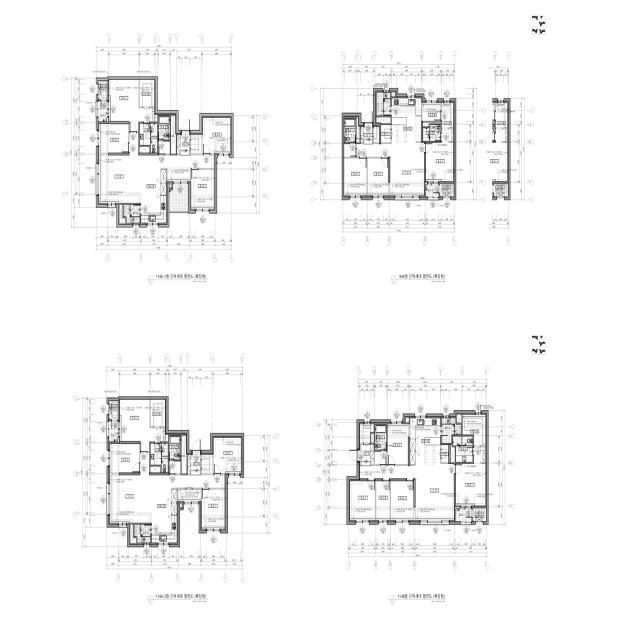space_balconi: (169, 186, 188, 211), (134, 525, 151, 543), (123, 205, 140, 223), (377, 93, 390, 116), (456, 509, 472, 522), (98, 101, 107, 122), (109, 421, 118, 441), (426, 184, 439, 197)
space_bedroom: (120, 400, 165, 452), (109, 80, 154, 132), (456, 447, 486, 506), (349, 481, 375, 520), (214, 437, 242, 473), (203, 117, 231, 153), (202, 490, 226, 529), (191, 170, 215, 209), (391, 481, 414, 520), (344, 158, 367, 196), (110, 444, 139, 473), (99, 124, 128, 153), (388, 424, 408, 464), (368, 158, 388, 196)
space_dressroom: (463, 415, 486, 446), (150, 400, 165, 427), (140, 80, 155, 107), (442, 103, 453, 128)
space_front: (358, 444, 374, 466), (361, 124, 379, 143), (188, 453, 201, 475), (177, 135, 190, 155)
space_kitchen: (410, 418, 440, 465), (152, 489, 177, 543), (141, 169, 166, 223), (392, 98, 421, 143)
space_living_room: (110, 453, 226, 523), (99, 133, 215, 203), (359, 464, 454, 520), (356, 143, 424, 196)
space_other: (426, 129, 453, 181), (376, 481, 390, 520), (422, 103, 441, 121), (167, 168, 190, 182), (359, 424, 374, 443), (178, 489, 201, 501), (202, 454, 213, 473), (191, 135, 202, 154), (182, 436, 187, 474), (171, 116, 176, 154), (381, 125, 391, 143), (344, 143, 356, 157), (169, 461, 181, 474), (375, 452, 387, 464), (158, 142, 170, 154), (441, 445, 448, 463), (119, 205, 125, 224), (130, 525, 136, 543), (423, 122, 441, 127), (377, 117, 391, 123), (357, 117, 360, 143), (451, 445, 455, 462), (457, 414, 462, 423), (371, 434, 374, 443), (166, 434, 168, 442), (155, 114, 157, 122), (391, 92, 395, 96), (406, 418, 409, 423), (169, 184, 171, 188), (180, 504, 182, 507)
space_outdoor_room: (473, 508, 486, 522), (440, 184, 454, 197), (98, 81, 107, 100), (109, 401, 118, 419)
space_toilet: (150, 443, 168, 473), (139, 124, 157, 153), (442, 418, 462, 444), (453, 436, 473, 462), (169, 436, 181, 461), (158, 116, 170, 140), (423, 125, 441, 141), (344, 119, 356, 142), (375, 425, 386, 450)
